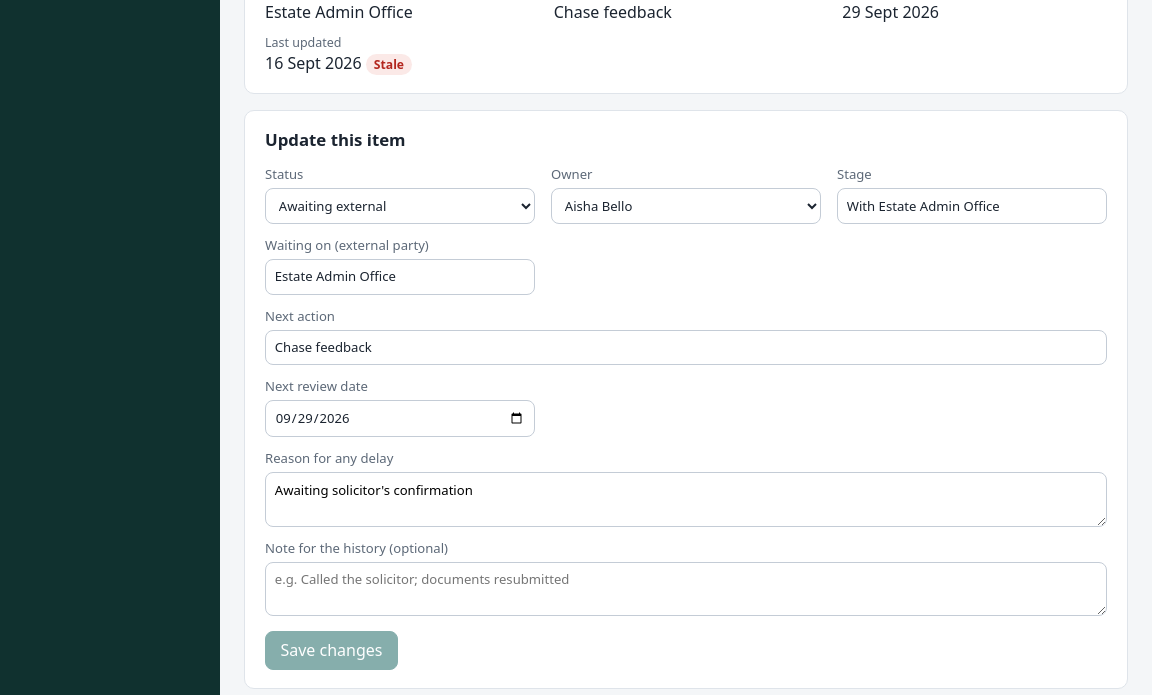
update form on the detail page › sends only what changed, plus the note, and refreshes the history
The width and height of the screenshot is (1152, 695).
(page scrolled)
Check: the button "Save changes" is disabled, box [265,631,398,670]
Replace the text in the field labelled "Next action" with "Call the registrar" at (686, 347), box [265,330,1107,365]
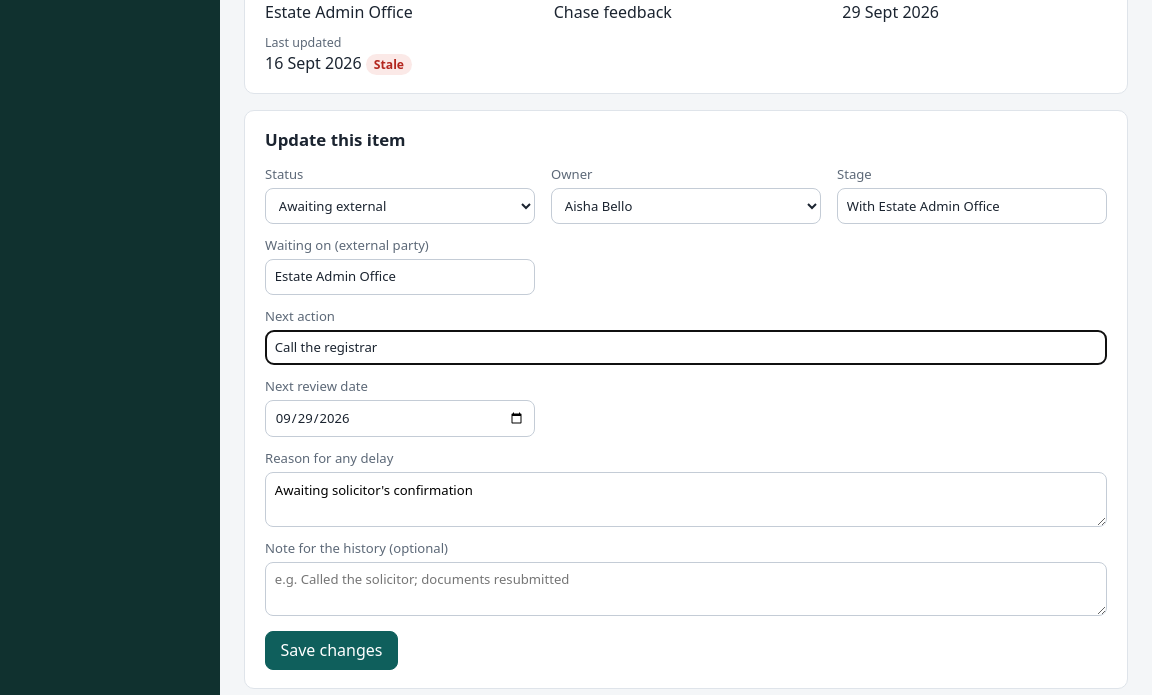
Type "Spoke to the desk officer" into the text box labelled "Note for the history (optional)" at (686, 589), box [265,562,1107,616]
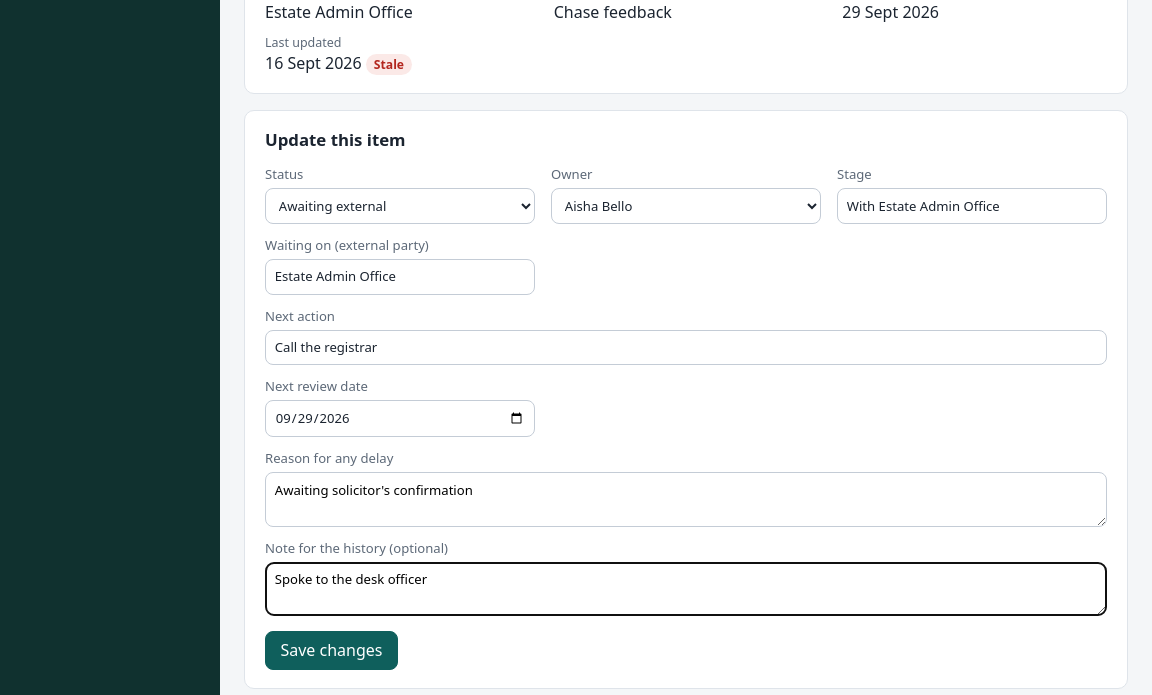
Check: the button "Save changes" is enabled
Click the button "Save changes" at (331, 650), box [265,631,398,670]
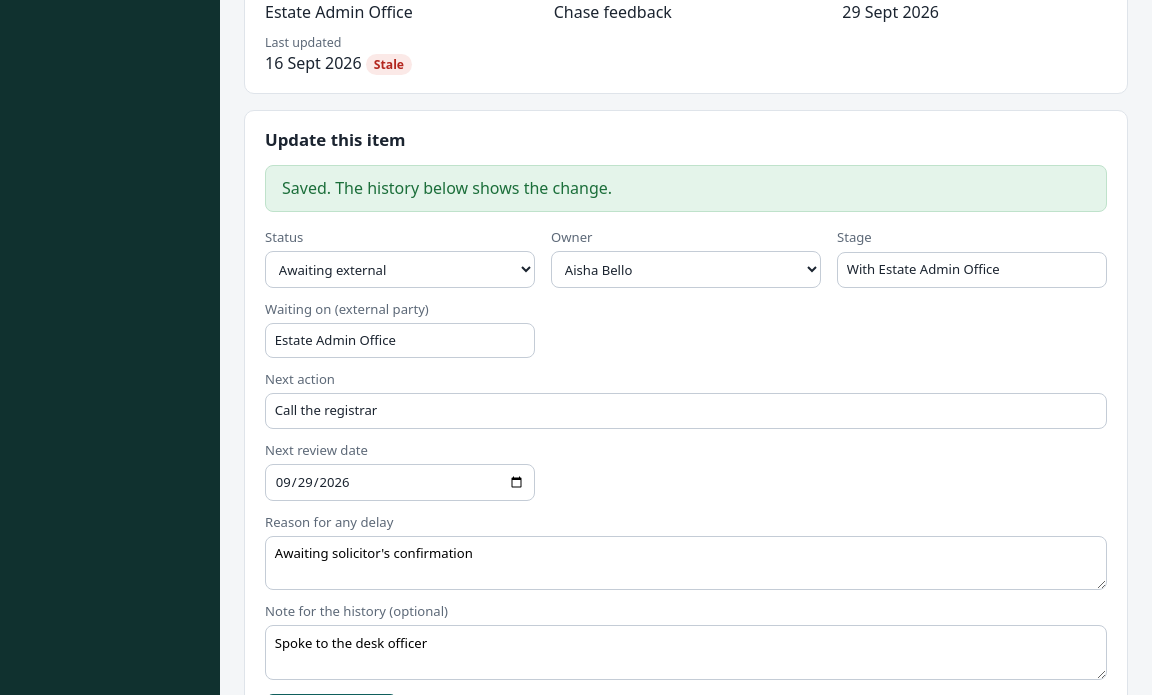
Check: the text "Saved. The history below shows the change." is shown, box [265,165,1107,212]
